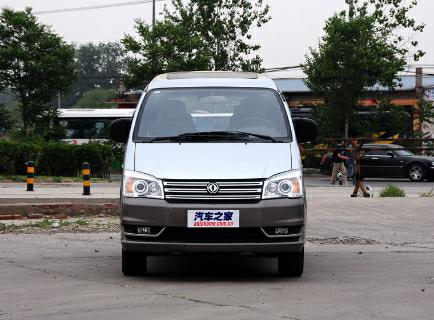东风风行-菱智: (116, 67, 313, 284)
